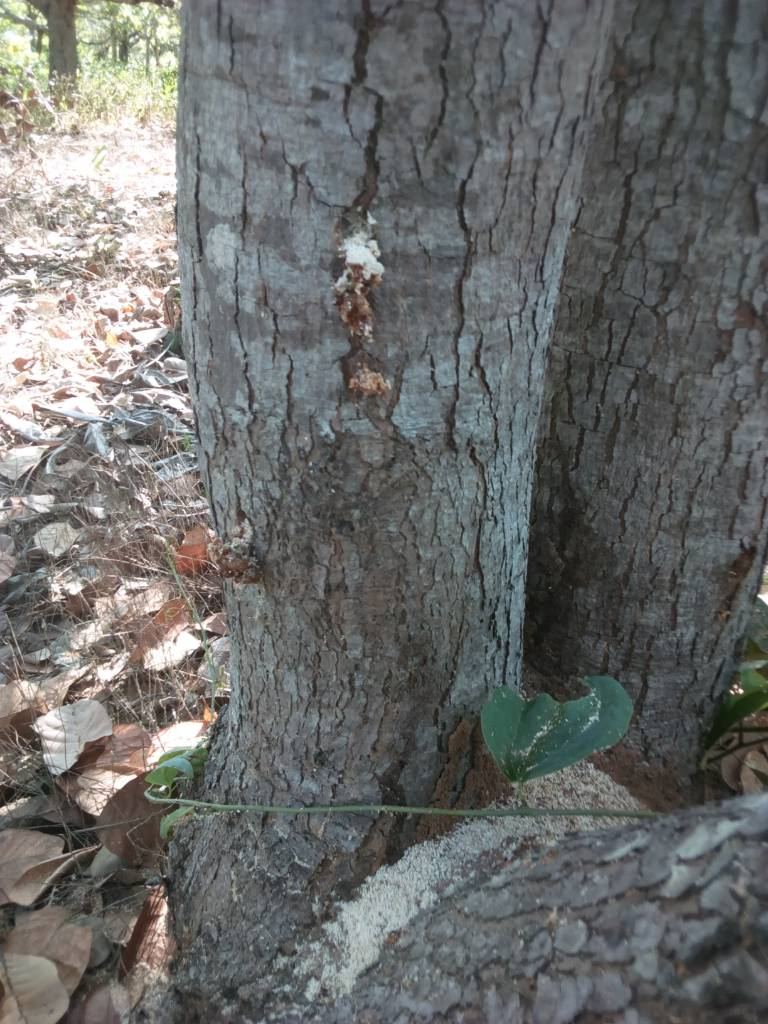Apate terebrans: (215, 202, 593, 536)
